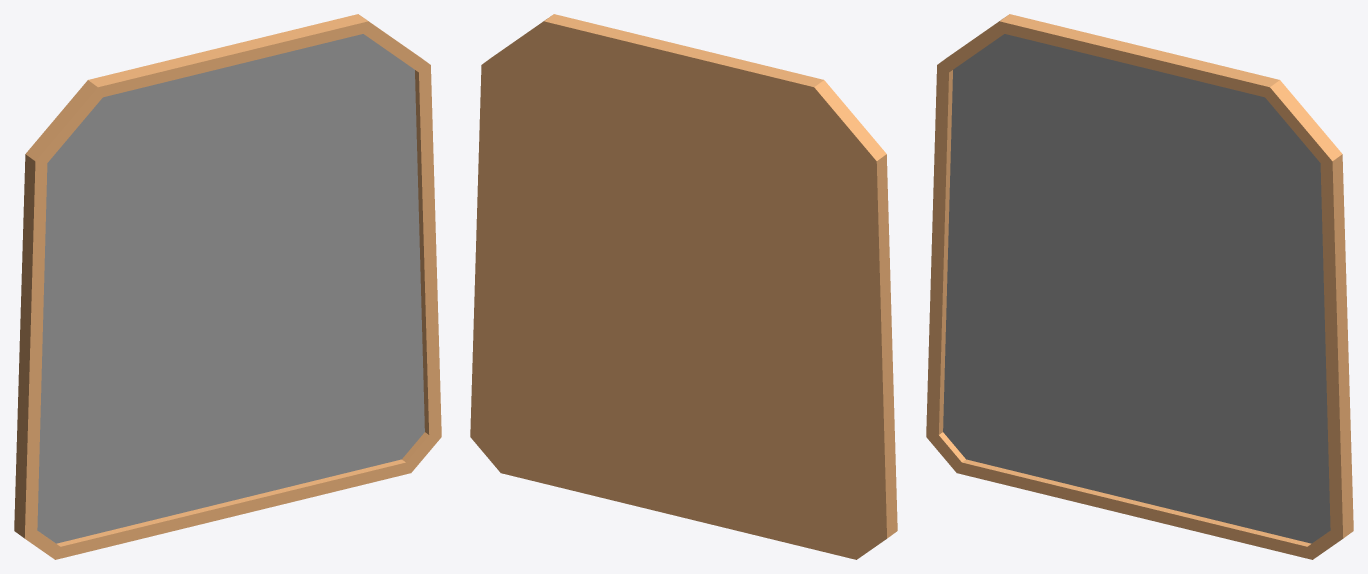
The model's file is Miror_7.fbx.
3 renders of one model, left to right at view 1: azimuth 30°, elevation 25°; view 2: azimuth 150°, elevation 25°; view 3: azimuth 330°, elevation 25°, orthographic.
Visible parts, largest first — view 1: Miror_7; view 2: Miror_7; view 3: Miror_7.
Boxes of the visible parts, left/top/right/bottom form: Miror_7: left=14, top=14, right=441, bottom=559; Miror_7: left=470, top=14, right=897, bottom=559; Miror_7: left=926, top=14, right=1353, bottom=559.
Size of the model in its own units: 0.9623 by 1.02 by 0.0424.
